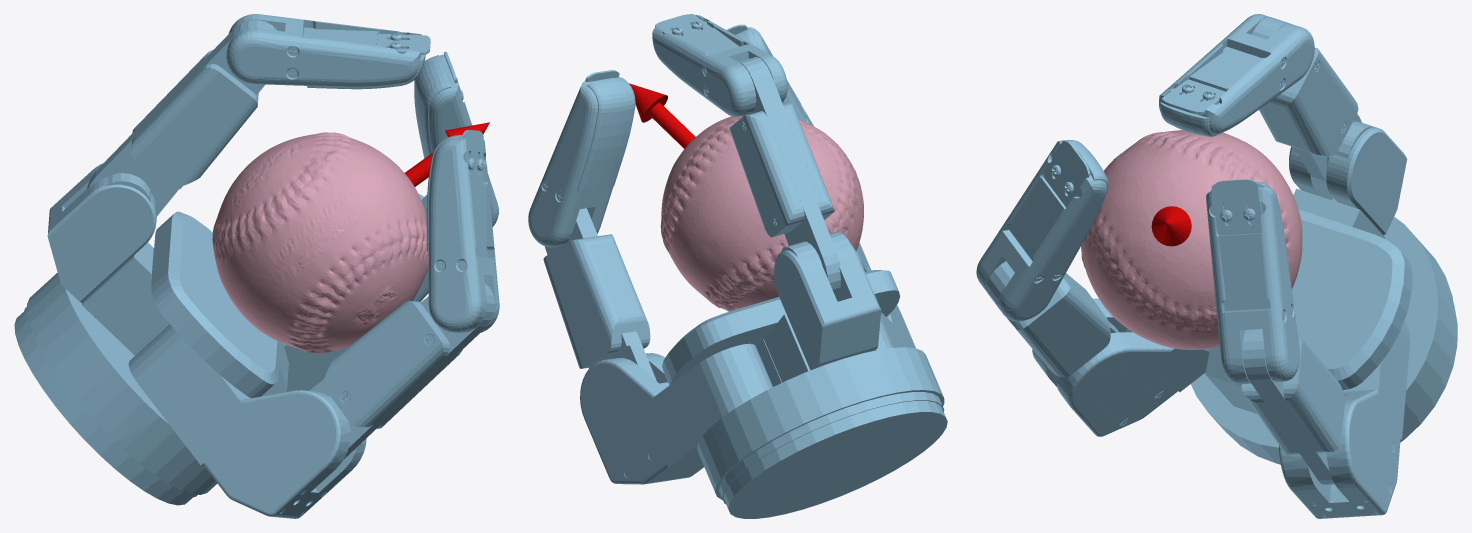
3 views of the same model, side by side, from view 1: azimuth 30°, elevation 25°; view 2: azimuth 150°, elevation 25°; view 3: azimuth 270°, elevation 25° (orthographic). The views are drawn at different scales.
Parts seen in each view (by area): view 1: world, baseball.stl; view 2: world, baseball.stl; view 3: world, baseball.stl.
Boxes of the visible parts, bbox=[...] form: world: bbox=[14, 14, 499, 518]; baseball.stl: bbox=[212, 132, 428, 353]; world: bbox=[528, 14, 947, 518]; baseball.stl: bbox=[660, 116, 863, 311]; world: bbox=[976, 14, 1457, 518]; baseball.stl: bbox=[1081, 130, 1302, 349].
Bounding box in the file's own units: 0.1716 × 0.1711 × 0.1573.
